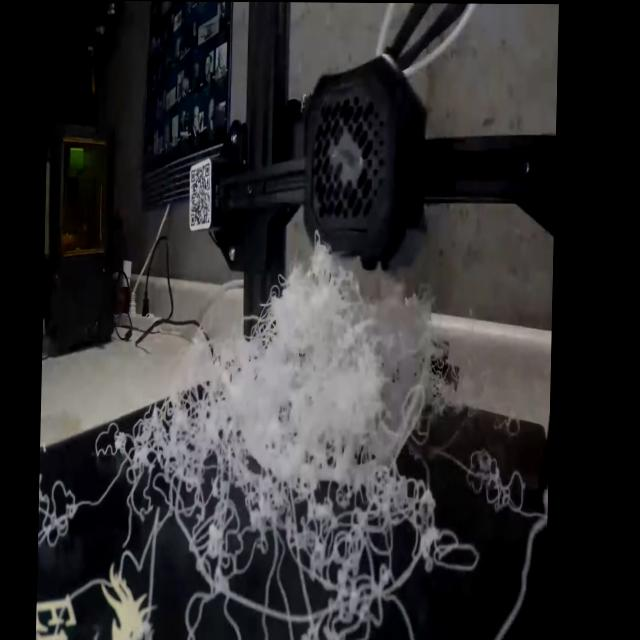spaghetti: (33, 239, 556, 640)
